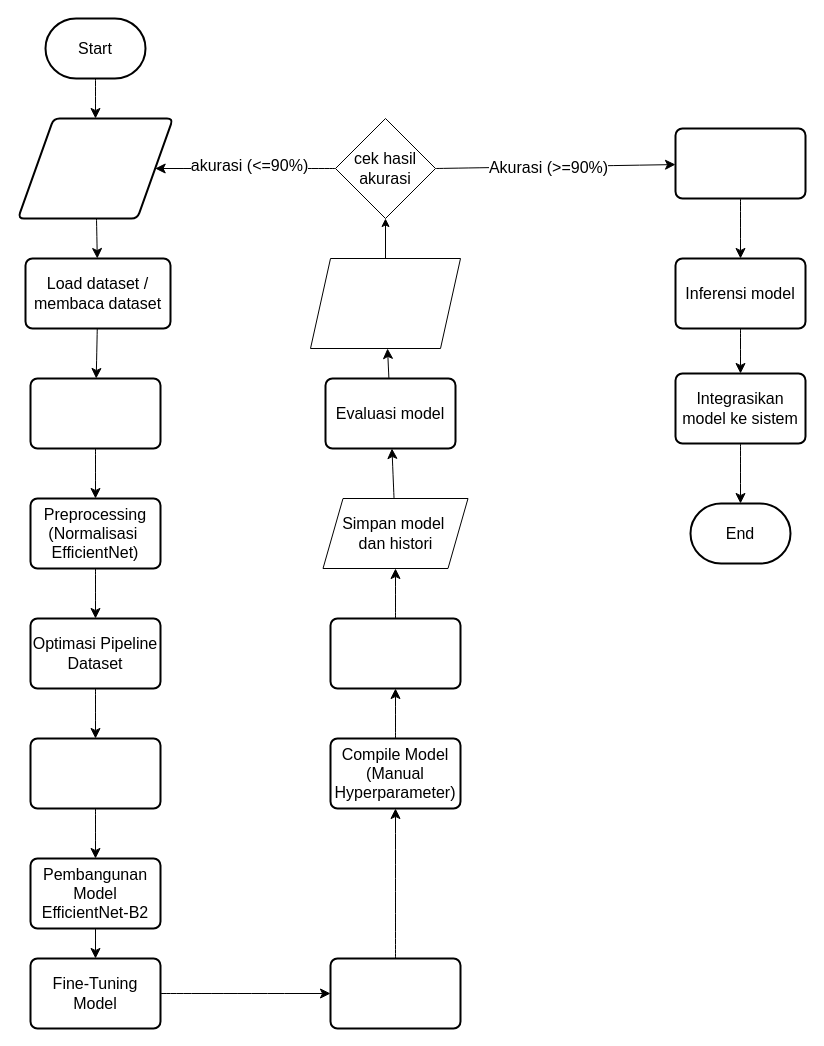
Some shapes in this 824 by 1046 pixel diagram are drawn without their labels. Each missing label, with the centre of its shape:
"Data Augmentasi (data training)" goes at [95,413].
"Hitung class weight" goes at [95,773].
"konversi file .keras menjadi tflite" goes at [740,163].
"Mengumpul- kan dataset ( kaggle+data sendiri)" goes at [95,168].
"Penambahan Lapisan Klasifikasi" goes at [395,993].
"Training Model" goes at [395,653].
"Visualisasi akurasi loss, confussion matrix" goes at [385,303].
